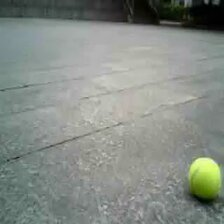tennis: (189, 159, 221, 197)
